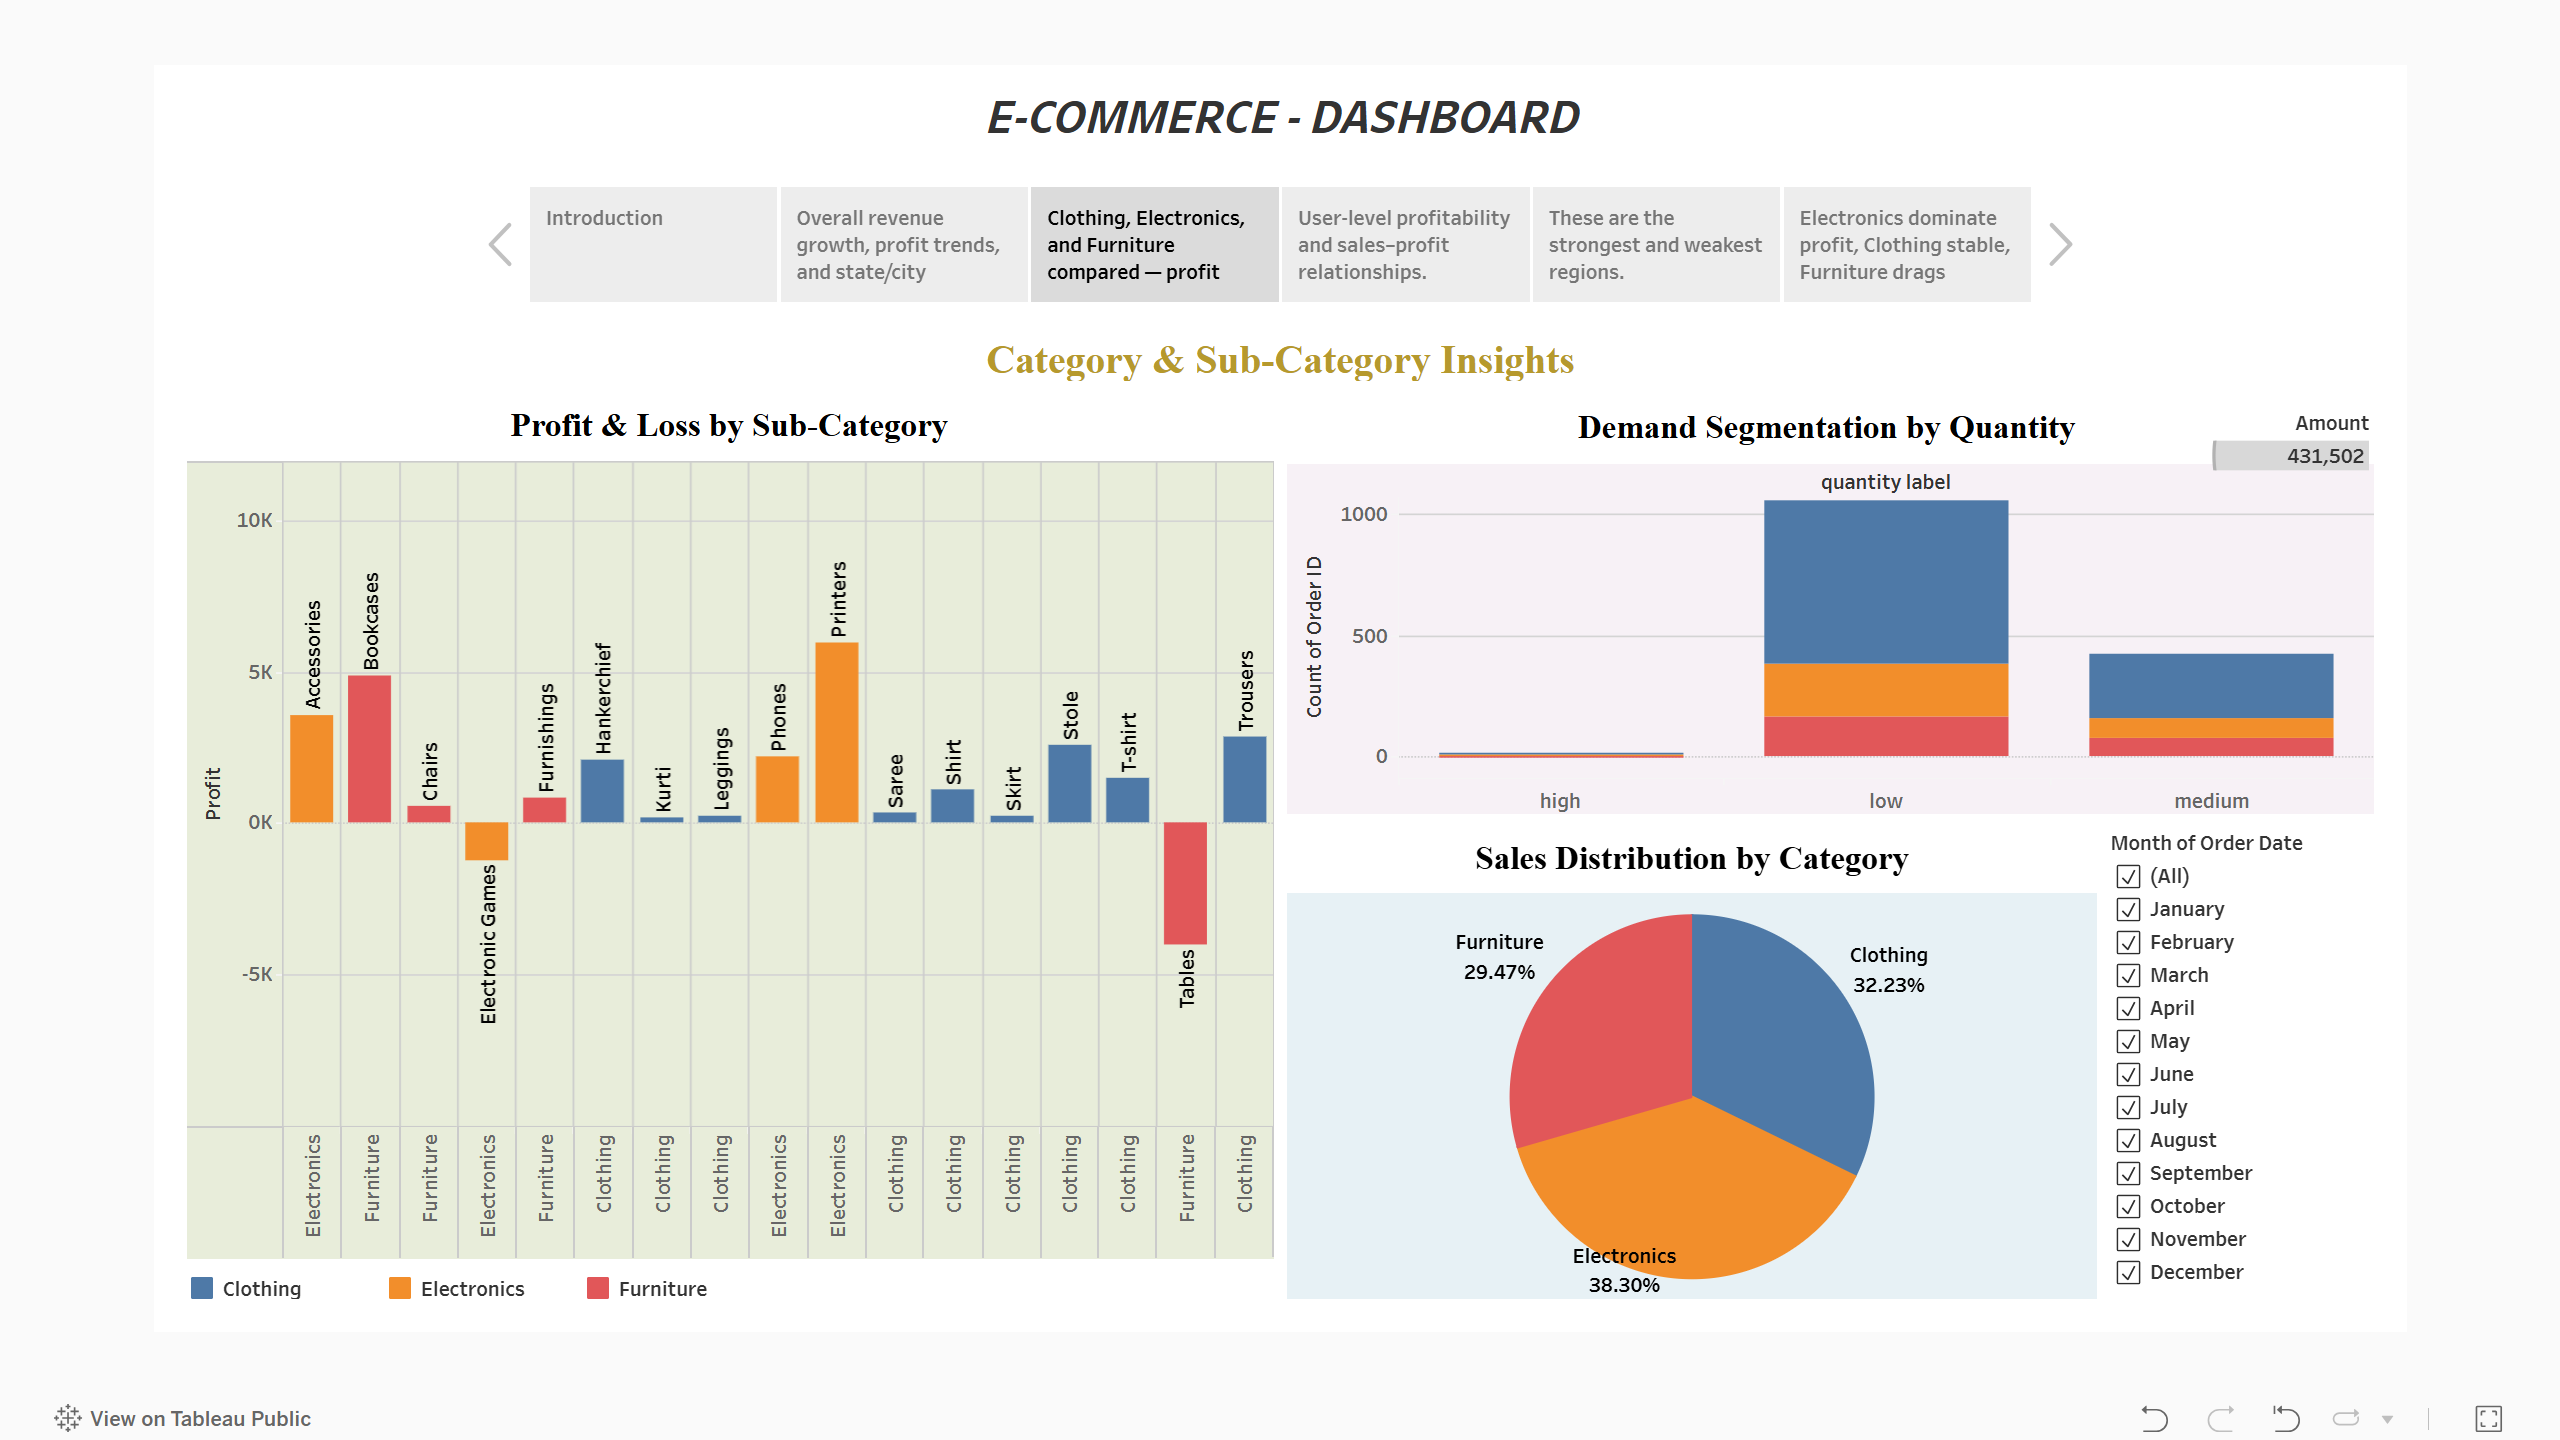

Layout of this report page (visuals, bound fields, positions):
{"tool":"tableau","page":{"name":"Category & Sub-Category Insights","canvas":[1000,1000],"units":"permille","ordinal":0},"visuals":[{"type":"title","box":[6,14.3,988,53.9]},{"type":"worksheet","title":"profit_or_loss_bar_chart","mark":"Automatic","rows":["Profit"],"cols":["Sub-Category","Category"],"box":[6,68.2,494,877.4]},{"type":"worksheet","title":"quantity_label","mark":"Automatic","rows":["Order ID"],"cols":["Calculation_683421293306359809"],"box":[500,68.2,494,431.9]},{"type":"legend","title":"categories_pie_chart","param":"[federated.1dc9i420t5on941e81dtr1lsql6r].[sum:Amount:qk]","box":[917.2,87.5,71.5,89.3]},{"type":"worksheet","title":"categories_pie_chart","mark":"Pie","box":[500,500,367.6,485.7]},{"type":"filter","title":"categories_pie_chart","param":"[federated.1dc9i420t5on941e81dtr1lsql6r].[mn:Order Date:ok]","box":[867.6,500,126.4,485.7]},{"type":"legend","title":"profit_or_loss_bar_chart","param":"[federated.1dc9i420t5on941e81dtr1lsql6r].[none:Category:nk]","box":[6,945.5,494,40.2]}]}

Visuals, with their boxes on the dashboard's canvas, which has no fixed pixel size, in thousandths of its width and height (x1, y1, x2, y2). These are canvas units, not pixel positions in the 2560x1440 screenshot, which may show the page scaled, cropped or inside an application window:
title: crop(6, 14, 994, 68)
"profit_or_loss_bar_chart" worksheet: crop(6, 68, 500, 946)
"quantity_label" worksheet: crop(500, 68, 994, 500)
"categories_pie_chart" legend: crop(917, 88, 989, 177)
"categories_pie_chart" worksheet (Pie marks): crop(500, 500, 868, 986)
"categories_pie_chart" filter: crop(868, 500, 994, 986)
"profit_or_loss_bar_chart" legend: crop(6, 946, 500, 986)
